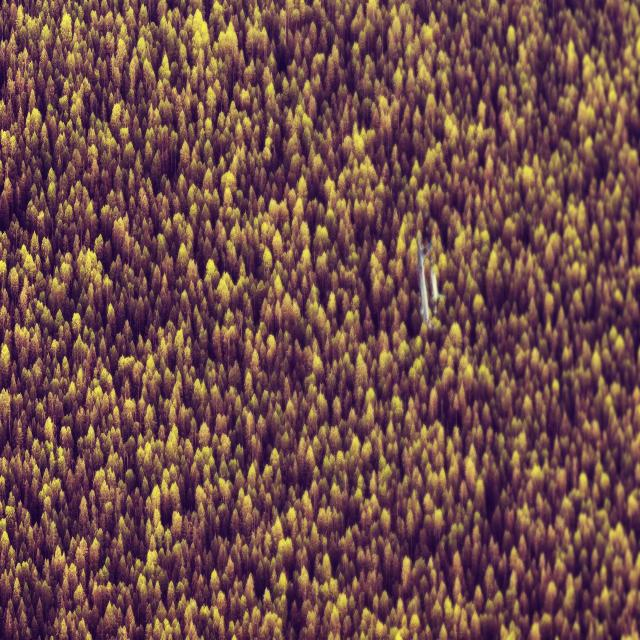airplane: (415, 229, 444, 329)
